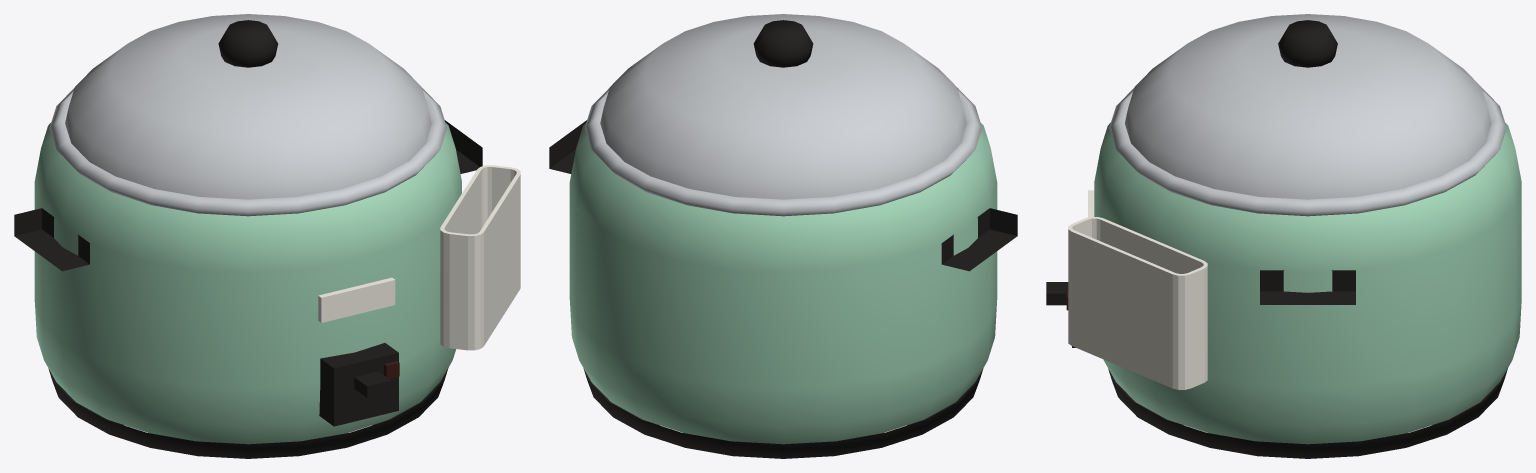
File: denkinabe.glb
The picture shows the model from 3 angles, left to right: view 1: azimuth 30°, elevation 25°; view 2: azimuth 150°, elevation 25°; view 3: azimuth 270°, elevation 25°; orthographic projection.
Visible parts, largest first — view 1: DenkiBody, DenkiLid, DenkiPaddleHolder, DenkiRim, DenkiFoot, DenkiSwitchBox, DenkiHandle-1, DenkiKnob, DenkiBadge, DenkiHandle1, DenkiLever; view 2: DenkiBody, DenkiLid, DenkiRim, DenkiFoot, DenkiHandle-1, DenkiKnob, DenkiHandle1; view 3: DenkiBody, DenkiLid, DenkiPaddleHolder, DenkiRim, DenkiFoot, DenkiHandle1, DenkiKnob, DenkiLever.
Boxes of the visible parts, x1,y1,x2,y2 form: DenkiBody: [34, 122, 461, 444]; DenkiLid: [65, 14, 431, 199]; DenkiPaddleHolder: [440, 165, 520, 350]; DenkiRim: [49, 88, 446, 216]; DenkiFoot: [48, 368, 448, 458]; DenkiSwitchBox: [319, 343, 398, 426]; DenkiHandle-1: [14, 208, 89, 271]; DenkiKnob: [218, 20, 278, 67]; DenkiBadge: [318, 277, 395, 322]; DenkiHandle1: [445, 120, 482, 173]; DenkiLever: [354, 371, 391, 397]; DenkiBody: [569, 123, 997, 444]; DenkiLid: [600, 14, 966, 199]; DenkiRim: [585, 87, 981, 216]; DenkiFoot: [583, 368, 983, 458]; DenkiHandle-1: [941, 208, 1017, 271]; DenkiKnob: [753, 20, 813, 67]; DenkiHandle1: [549, 120, 586, 173]; DenkiBody: [1094, 122, 1521, 444]; DenkiLid: [1125, 14, 1491, 199]; DenkiPaddleHolder: [1068, 217, 1207, 389]; DenkiRim: [1109, 88, 1506, 216]; DenkiFoot: [1108, 368, 1507, 458]; DenkiHandle1: [1260, 270, 1355, 304]; DenkiKnob: [1278, 20, 1337, 67]; DenkiLever: [1046, 282, 1068, 305].
Size of the model in its own units: 0.454 by 0.358 by 0.445.
